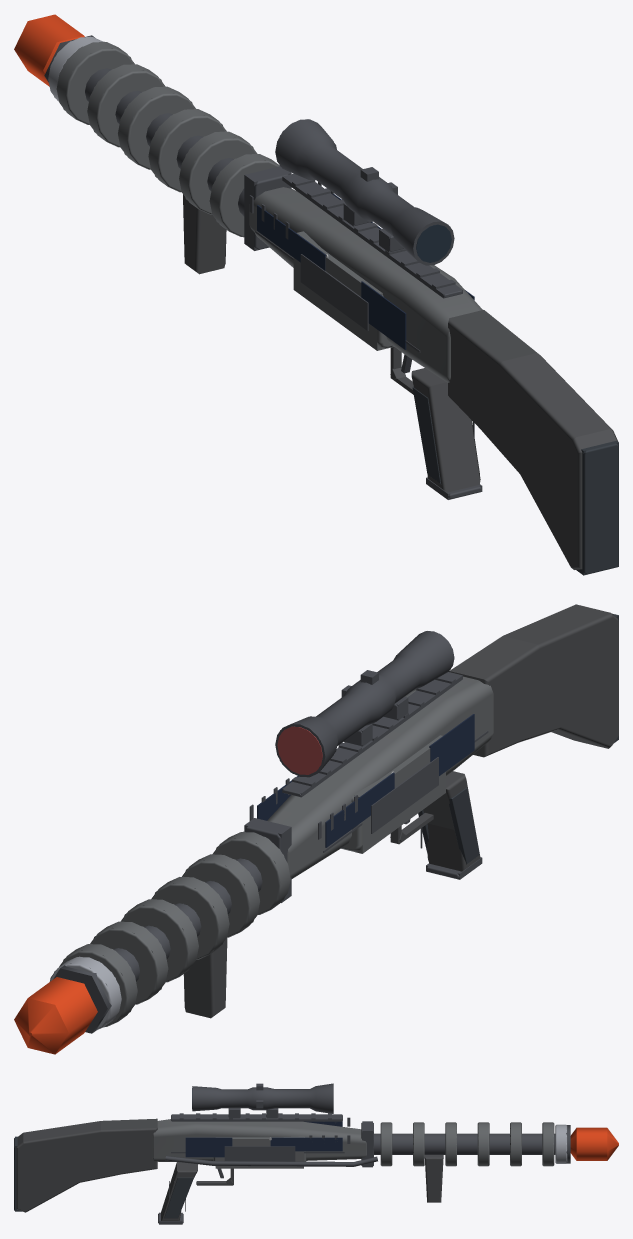
The model's file is ebeam.glb.
3 views of the same model, one above another, from view 1: azimuth 30°, elevation 25°; view 2: azimuth 150°, elevation 25°; view 3: azimuth 270°, elevation 25° (orthographic). The views are drawn at different scales.
Parts seen in each view (by area): view 1: L0, L1; view 2: L0, L1; view 3: L0, L1.
Boxes of the visible parts, x1,y1,x2,y2 form: L0: [14, 14, 618, 574]; L1: [53, 36, 618, 575]; L0: [14, 604, 618, 1054]; L1: [54, 614, 618, 1027]; L0: [14, 1083, 618, 1223]; L1: [15, 1083, 565, 1224].
Bounding box in the file's own units: 0.0837 × 0.2535 × 1.03.
